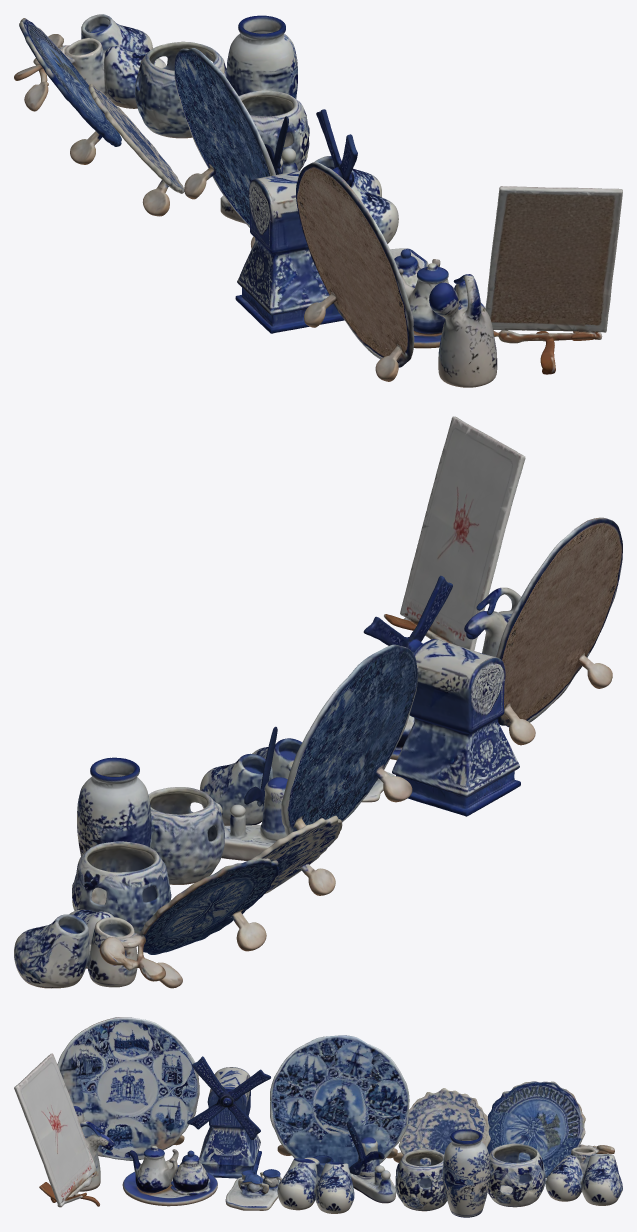
Rendered from porcelain.glb.
3 views of the same model, one above another, from view 1: azimuth 30°, elevation 25°; view 2: azimuth 150°, elevation 25°; view 3: azimuth 270°, elevation 25° (orthographic). The views are drawn at different scales.
Parts seen in each view (by area): view 1: tripo_node_e7330a5f-0678-456b-8c95-ca4b33ef96b8; view 2: tripo_node_e7330a5f-0678-456b-8c95-ca4b33ef96b8; view 3: tripo_node_e7330a5f-0678-456b-8c95-ca4b33ef96b8.
Boxes of the visible parts, x1,y1,x2,y2 form: tripo_node_e7330a5f-0678-456b-8c95-ca4b33ef96b8: (14, 14, 622, 387); tripo_node_e7330a5f-0678-456b-8c95-ca4b33ef96b8: (14, 416, 622, 988); tripo_node_e7330a5f-0678-456b-8c95-ca4b33ef96b8: (14, 1017, 622, 1217).
Size of the model in its own units: 0.2819 by 0.2455 by 1.
Materials: 1 (1 with a texture image).
